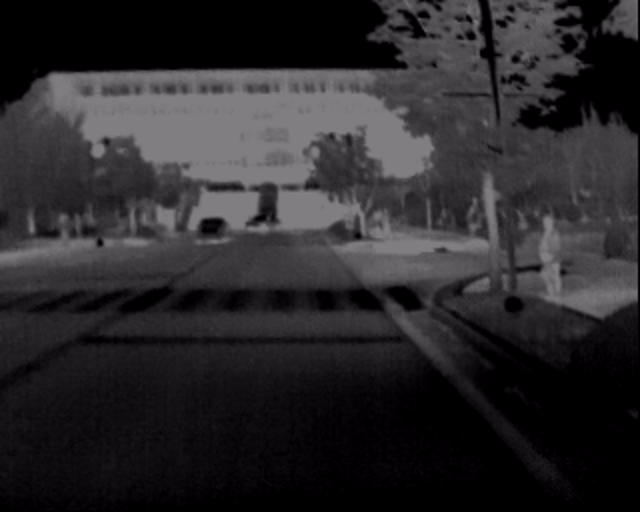person: (538, 215, 570, 311), (40, 219, 60, 263)
